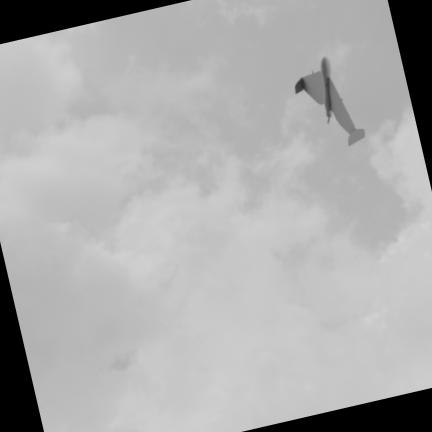Shahed: (295, 57, 364, 145)
